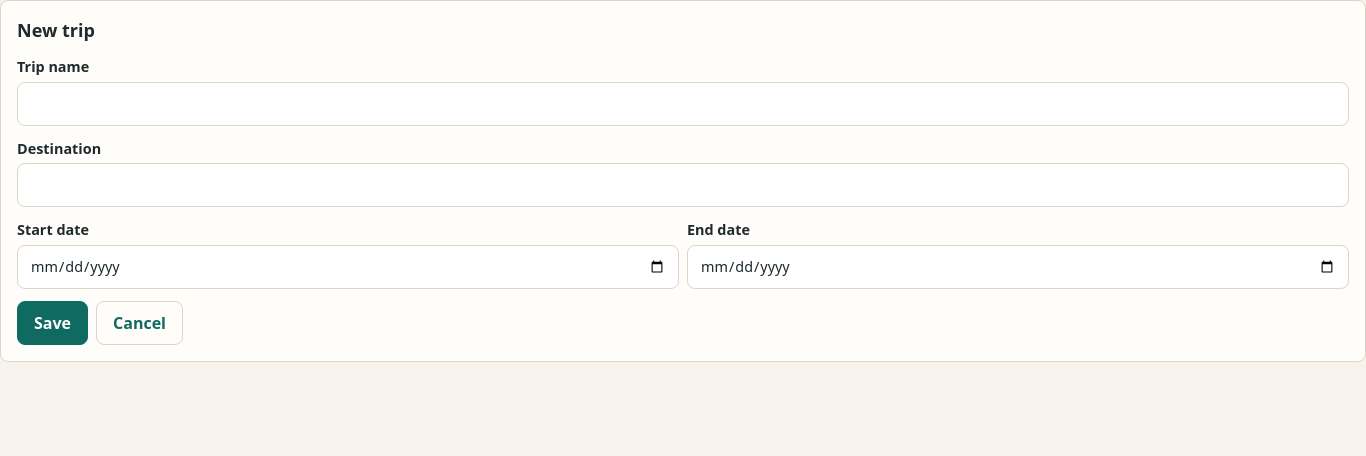
Test case: shows a message under each empty field and does not save
Step 1. Click the button "Save" → coordinates (52, 323), box [17,301,88,345]
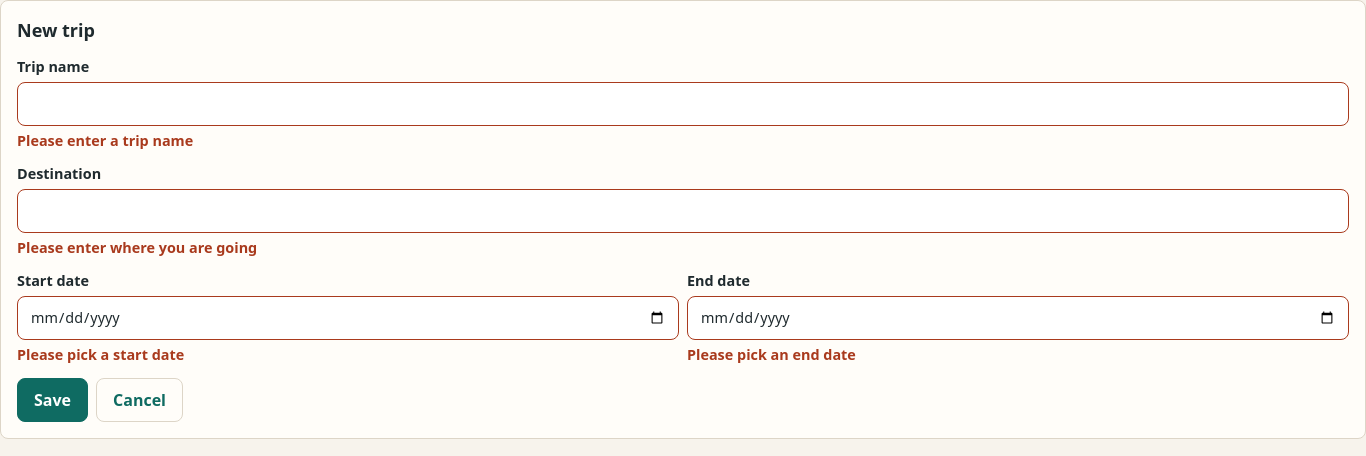
Check: the text "Please enter a trip name" is shown, box [17,131,193,150]
Check: the text "Please enter where you are going" is shown, box [17,238,257,257]
Check: the text "Please pick a start date" is shown, box [17,345,184,364]
